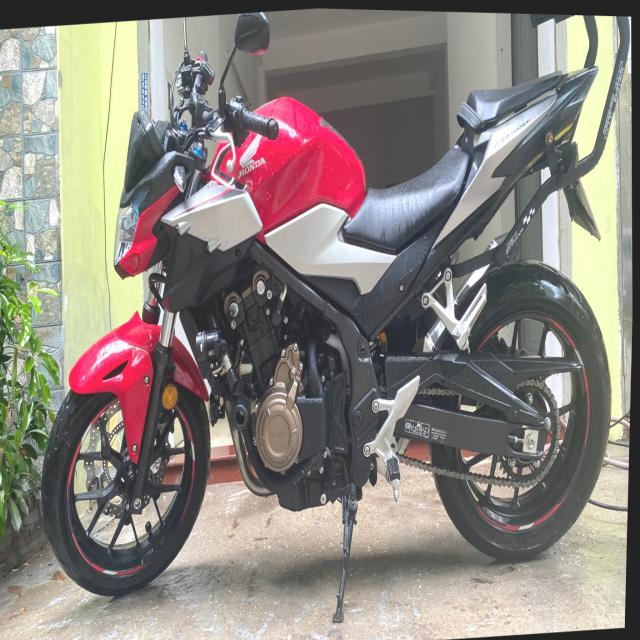CB500F: (27, 51, 626, 606)
